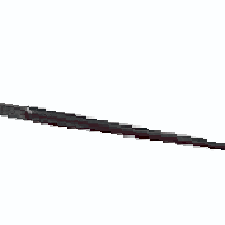wrench: (1, 86, 225, 185)
